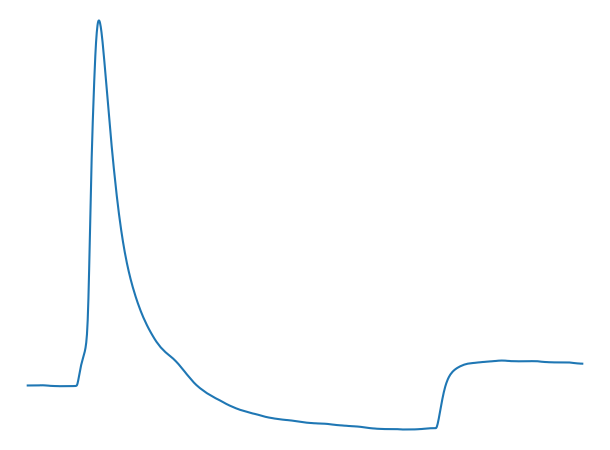increase: (427, 417, 445, 433), (69, 375, 83, 392)
